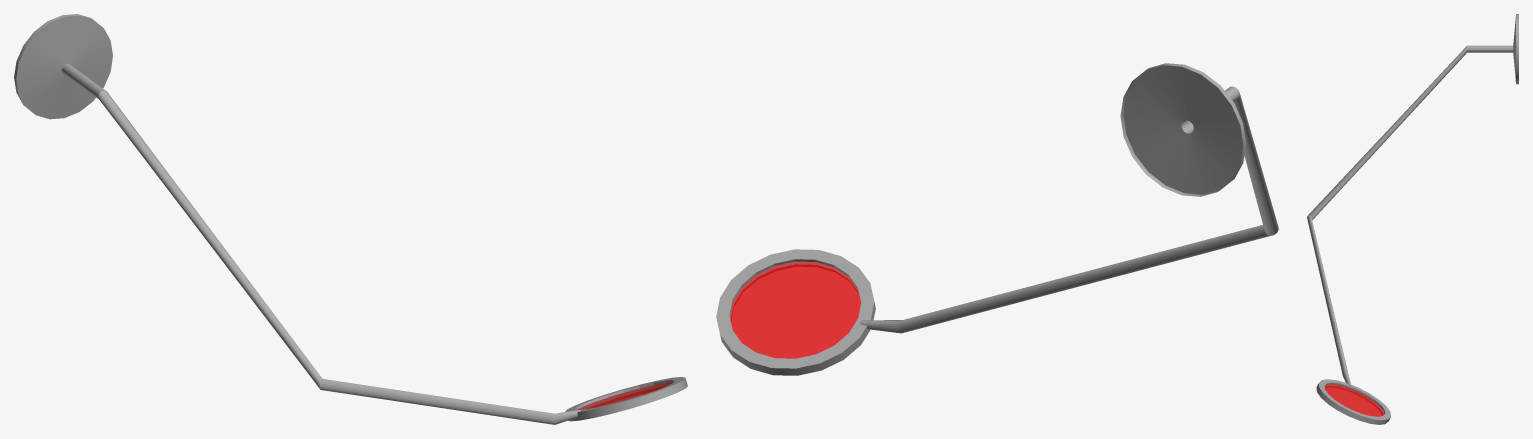
Rendered from loop.fbx.
3 renders of one model, left to right at view 1: azimuth 30°, elevation 25°; view 2: azimuth 150°, elevation 25°; view 3: azimuth 270°, elevation 25°, orthographic. The views are drawn at different scales.
Parts seen in each view (by area): view 1: Loop; view 2: Loop; view 3: Loop.
Part boxes in pixels (left/top/right/bottom): Loop: left=14, top=14, right=687, bottom=424; Loop: left=716, top=63, right=1278, bottom=375; Loop: left=1307, top=14, right=1518, bottom=424.
Bounding box in the file's own units: 96.95 × 72.88 × 52.22.
